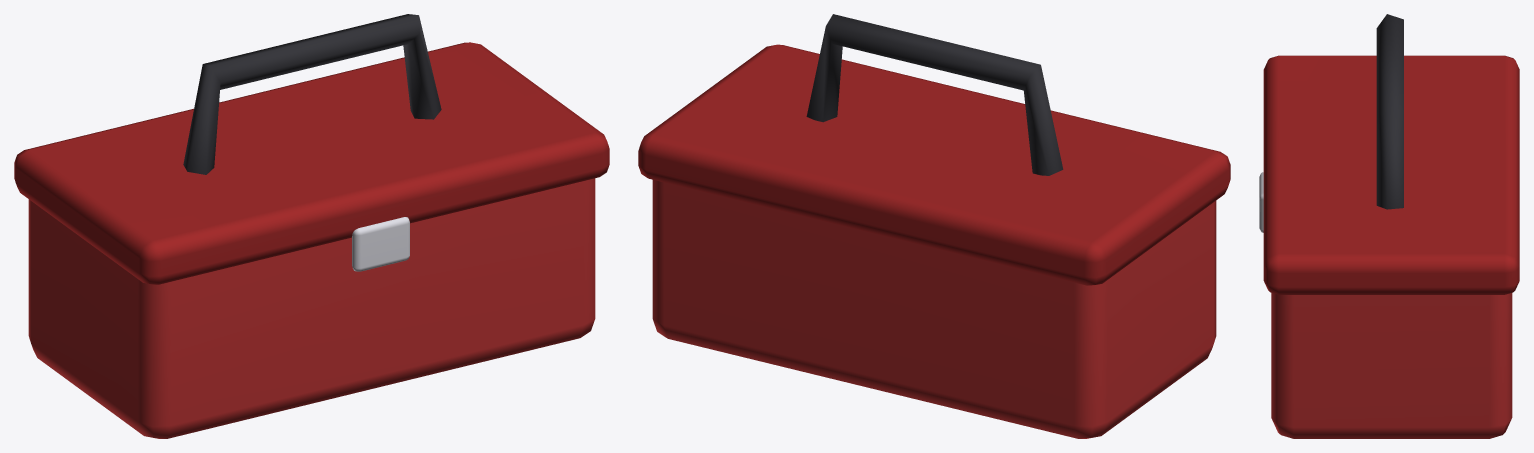
The model's file is furn_toolbox.glb.
3 views of the same model, side by side, from view 1: azimuth 30°, elevation 25°; view 2: azimuth 150°, elevation 25°; view 3: azimuth 270°, elevation 25° (orthographic). The views are drawn at different scales.
Parts seen in each view (by area): view 1: furn_toolbox_main, furn_toolbox_gloss; view 2: furn_toolbox_main; view 3: furn_toolbox_main, furn_toolbox_gloss.
Boxes of the visible parts, x1=… form: furn_toolbox_main: x1=14, y1=14, x2=609, y2=438; furn_toolbox_gloss: x1=352, y1=217, x2=409, y2=271; furn_toolbox_main: x1=638, y1=14, x2=1230, y2=438; furn_toolbox_main: x1=1263, y1=14, x2=1519, y2=438; furn_toolbox_gloss: x1=1259, y1=172, x2=1263, y2=232.
Size of the model in its own units: 0.33 by 0.2088 by 0.173.
